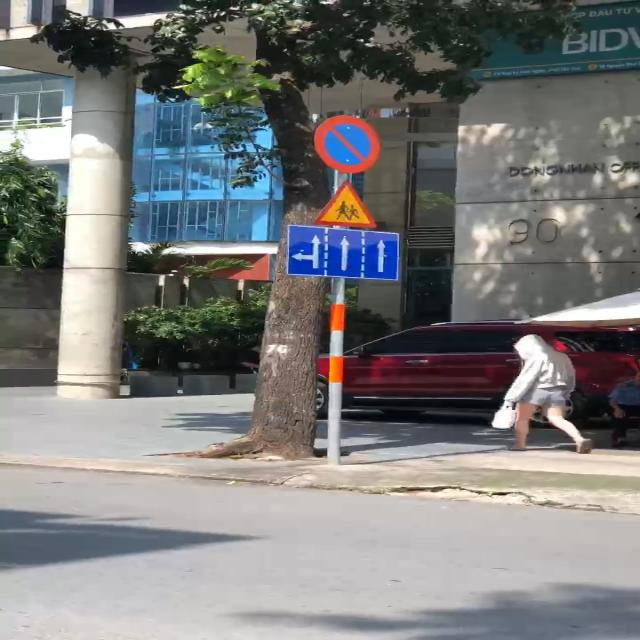Bien bao cam do xe: (308, 113, 383, 176)
Bien bao tre em: (313, 178, 395, 230)
